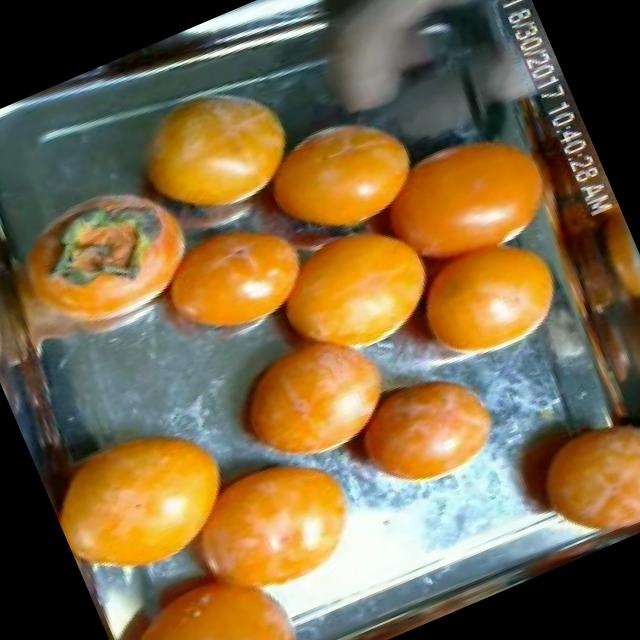Fruit: (31, 382, 267, 605), (190, 295, 420, 490), (103, 54, 323, 245), (311, 341, 524, 527), (182, 433, 388, 621), (232, 81, 444, 263), (375, 208, 586, 388), (484, 378, 640, 572)
